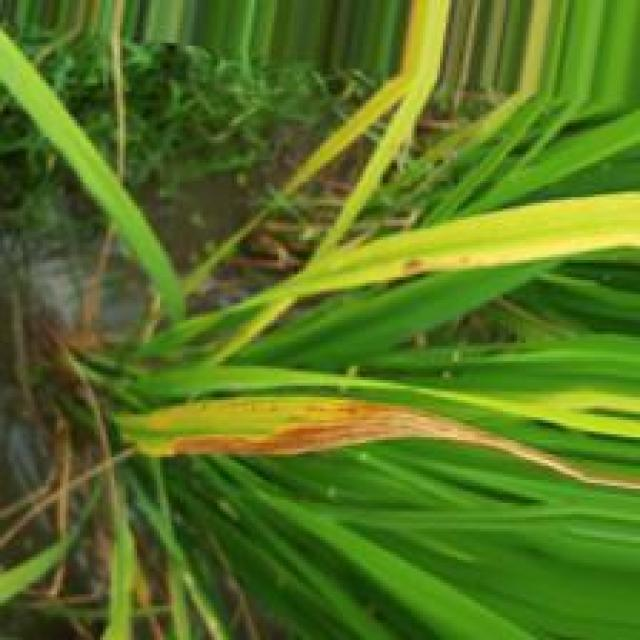Leaf_Scald: (161, 400, 557, 467)
